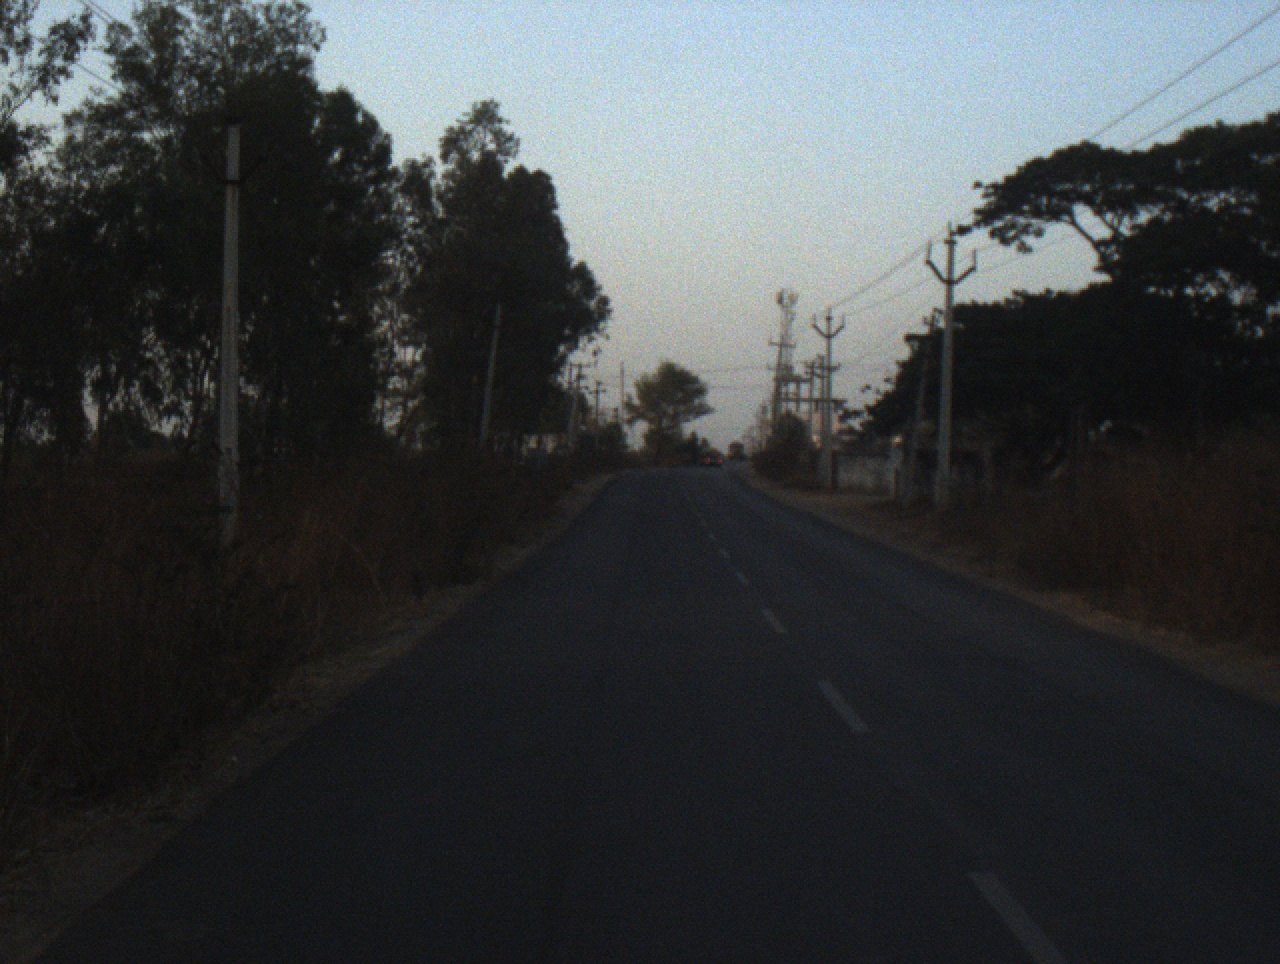car: (695, 447, 723, 472)
truck: (728, 435, 747, 466)
